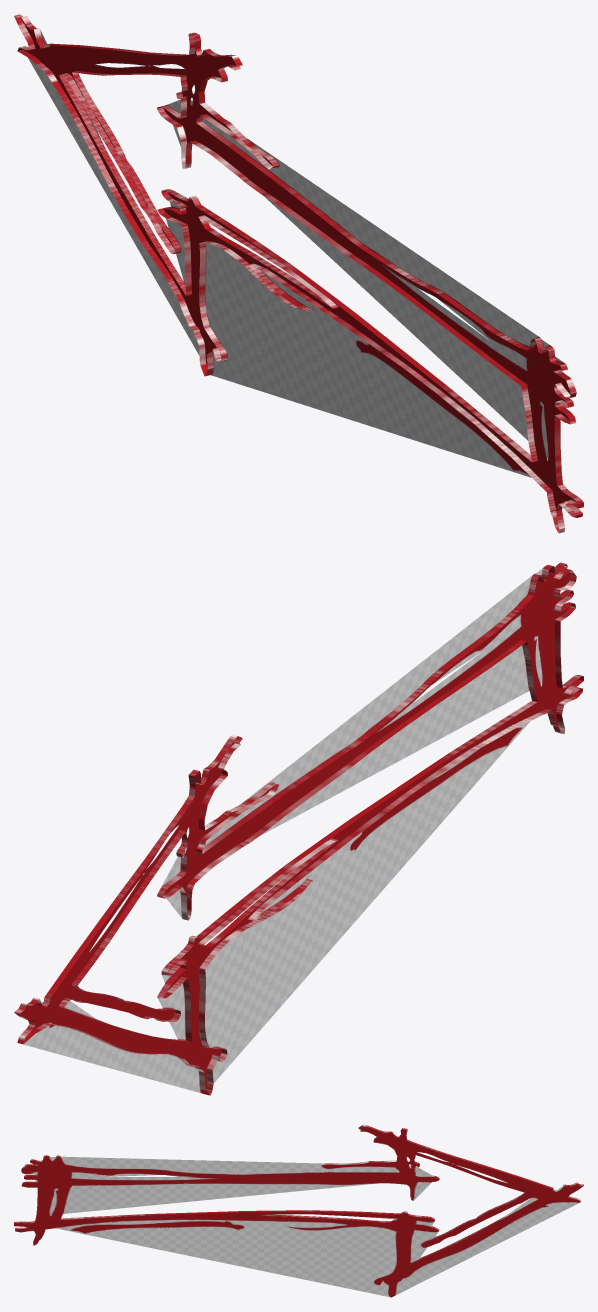
File: flecha (1).fbx
3 renders of one model, top to bottom at view 1: azimuth 30°, elevation 25°; view 2: azimuth 150°, elevation 25°; view 3: azimuth 270°, elevation 25°, orthographic. The views are drawn at different scales.
Parts seen in each view (by area): view 1: Cube; view 2: Cube; view 3: Cube.
Part boxes in pixels (bbox=[...]): Cube: bbox=[14, 14, 583, 533]; Cube: bbox=[14, 562, 583, 1095]; Cube: bbox=[14, 1124, 583, 1297].
Size of the model in its own units: 12.01 by 637 by 1916.
1 material, 1 textured.
